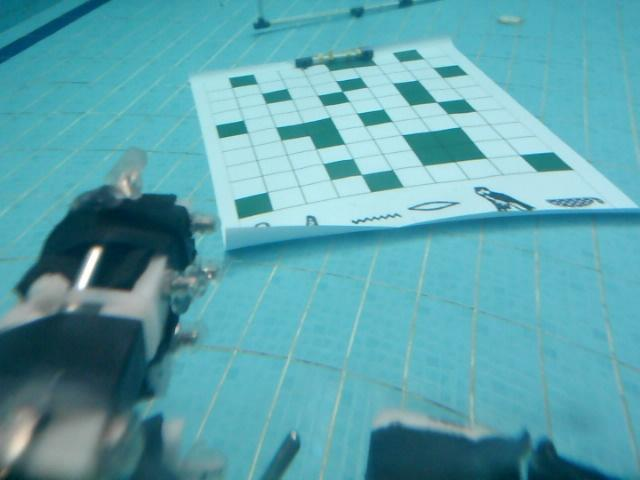Basket: (545, 190, 610, 217)
Mouth: (407, 197, 461, 212)
Owl: (469, 184, 534, 216)
Water: (351, 213, 401, 226)
